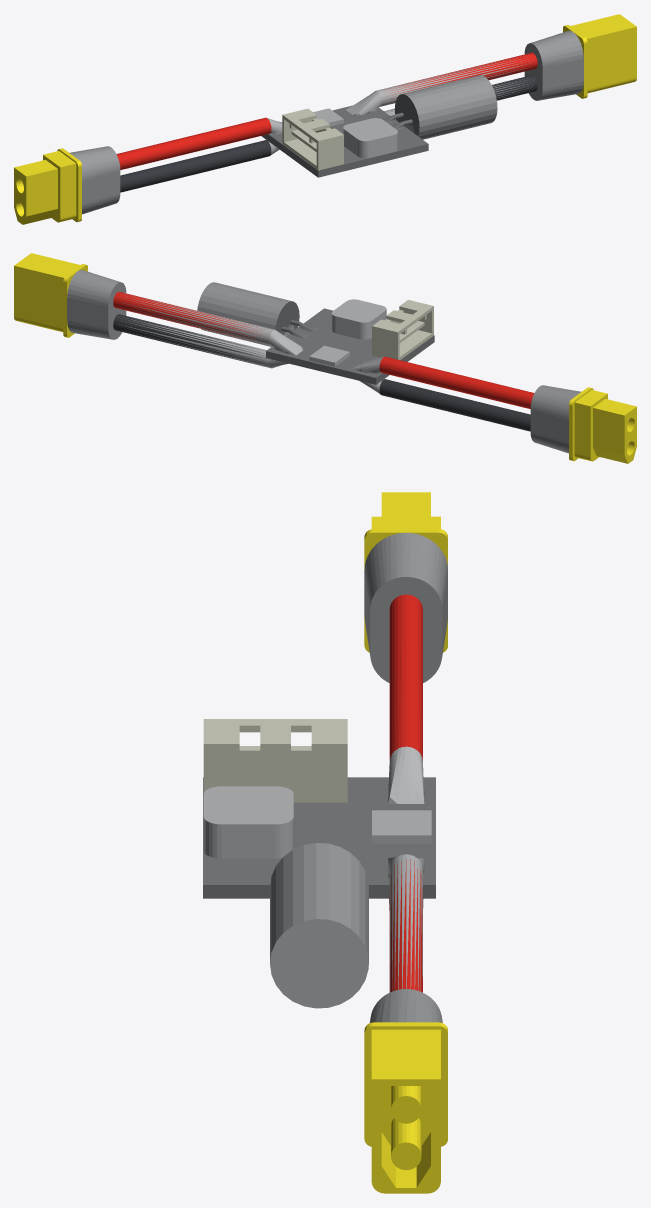
File: Holybro_PM02D_colored.glb
3 views of the same model, one above another, from view 1: azimuth 30°, elevation 25°; view 2: azimuth 150°, elevation 25°; view 3: azimuth 270°, elevation 25° (orthographic). The views are drawn at different scales.
Visible parts, largest first — view 1: XT60_Yellow, Connector_Sleeve, Board_Components, Cable_Red, Capacitor, Cable_Black, PCB_Dark_Gray, Terminal_Block, IC_Dark; view 2: XT60_Yellow, Board_Components, Connector_Sleeve, Cable_Red, Cable_Black, PCB_Dark_Gray, Capacitor, Terminal_Block, IC_Dark; view 3: Board_Components, XT60_Yellow, PCB_Dark_Gray, Connector_Sleeve, Terminal_Block, Cable_Red, Capacitor.
Boxes of the visible parts, left/top/right/bottom form: XT60_Yellow: left=14, top=14, right=636, bottom=224; Connector_Sleeve: left=69, top=30, right=583, bottom=214; Board_Components: left=267, top=56, right=530, bottom=158; Cable_Red: left=116, top=52, right=537, bottom=169; Capacitor: left=403, top=75, right=497, bottom=139; Cable_Black: left=120, top=75, right=537, bottom=192; PCB_Dark_Gray: left=261, top=105, right=428, bottom=177; Terminal_Block: left=282, top=108, right=343, bottom=170; IC_Dark: left=382, top=94, right=419, bottom=128; XT60_Yellow: left=14, top=253, right=636, bottom=463; Board_Components: left=118, top=294, right=386, bottom=394; Connector_Sleeve: left=67, top=269, right=581, bottom=453; Cable_Red: left=113, top=291, right=534, bottom=408; Cable_Black: left=113, top=314, right=530, bottom=431; PCB_Dark_Gray: left=266, top=308, right=434, bottom=384; Capacitor: left=197, top=282, right=291, bottom=346; Terminal_Block: left=372, top=300, right=433, bottom=359; IC_Dark: left=275, top=301, right=314, bottom=337; Board_Components: left=203, top=746, right=431, bottom=1008; XT60_Yellow: left=364, top=492, right=447, bottom=1193; PCB_Dark_Gray: left=203, top=777, right=435, bottom=898; Connector_Sleeve: left=364, top=532, right=447, bottom=1022; Terminal_Block: left=203, top=719, right=347, bottom=802; Cable_Red: left=389, top=594, right=422, bottom=992; Capacitor: left=270, top=843, right=368, bottom=961.
Size of the model in its own units: 0.156 by 0.0155 by 0.0273.
